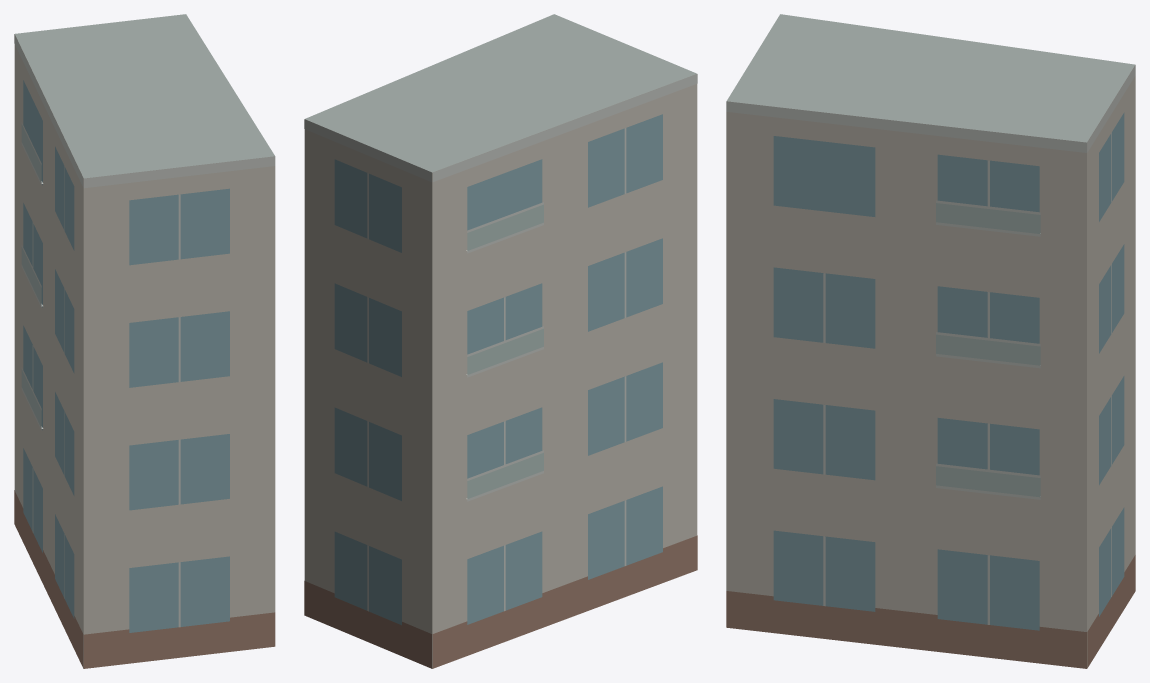
Rendered from survey-upis-32962587.glb.
The picture shows the model from 3 angles, left to right: view 1: azimuth 30°, elevation 25°; view 2: azimuth 150°, elevation 25°; view 3: azimuth 270°, elevation 25°; orthographic projection. The views are drawn at different scales.
Parts seen in each view (by area): view 1: survey-upis-32962587.tmp; view 2: survey-upis-32962587.tmp; view 3: survey-upis-32962587.tmp.
Boxes of the visible parts, x1,y1,x2,y2 form: survey-upis-32962587.tmp: (14,14,275,668); survey-upis-32962587.tmp: (304,14,697,668); survey-upis-32962587.tmp: (726,14,1135,668).
Size of the model in its own units: 6.4 by 12.2 by 8.61.
